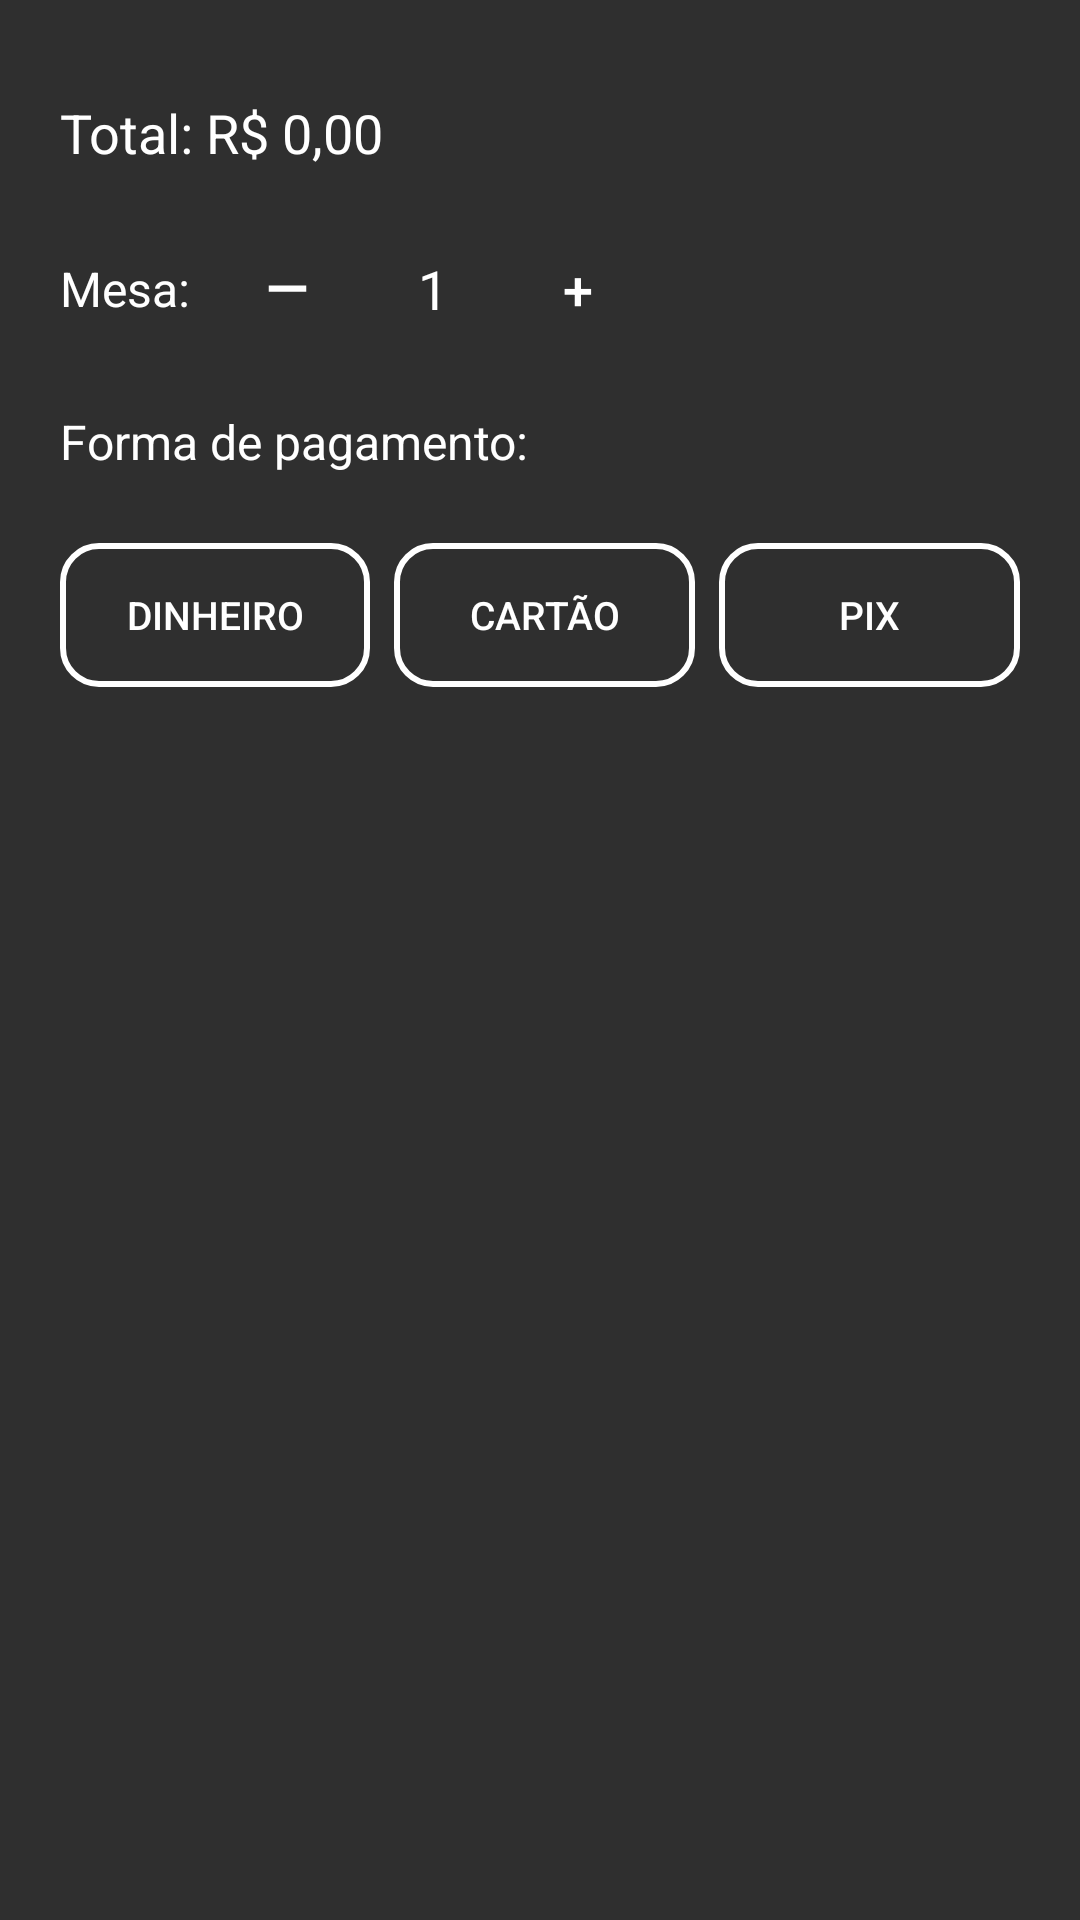

Named icons in this screenshot (1080px x 1920px) and their bounding boxes, {"left": x1, "top": y1, "right": x2, "bottom": y2}:
minus: {"left": 268, "top": 285, "right": 307, "bottom": 292}
